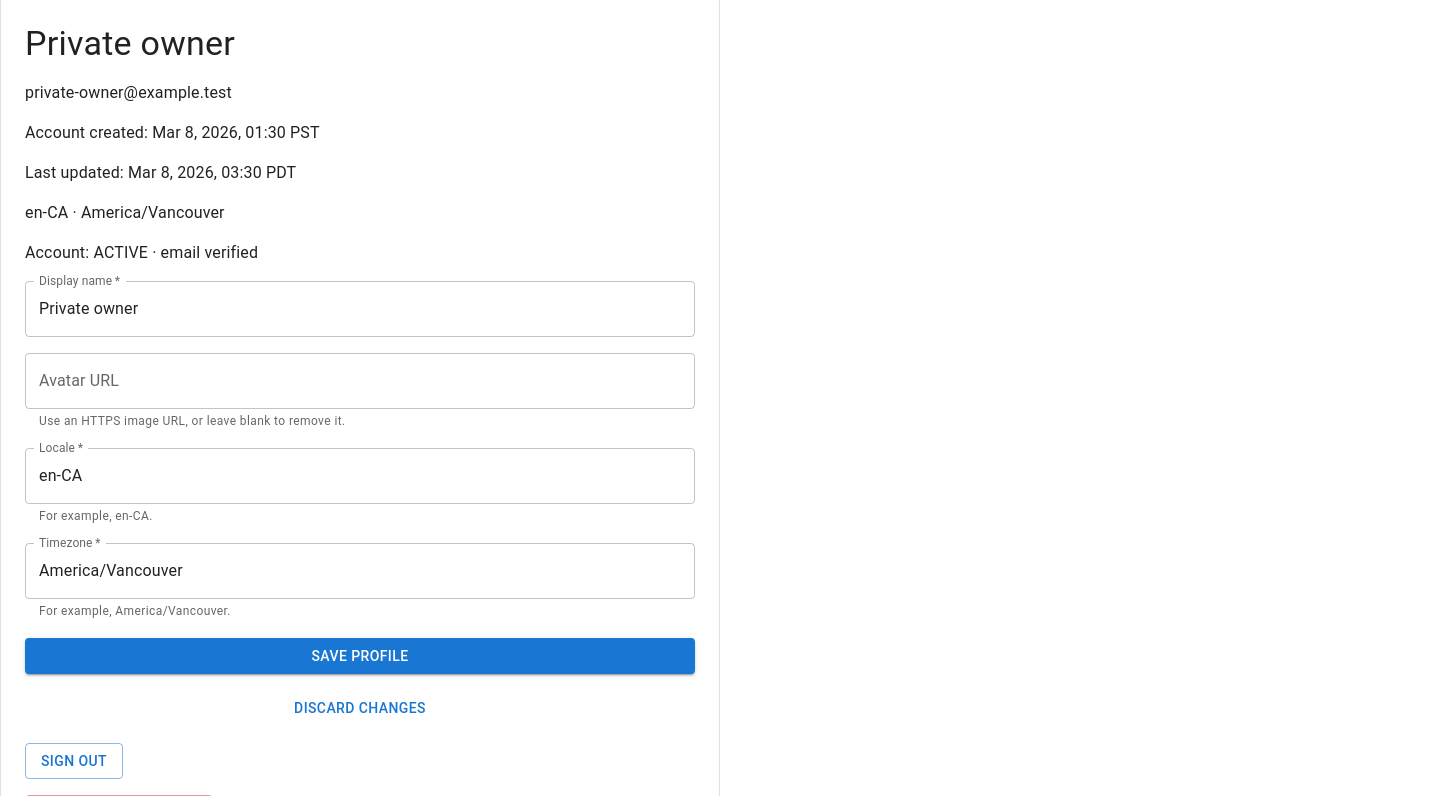
Test: PRD-02/03/18 account deactivation › preserves edits on organization_owner_required and reuses the refused intent after fresh confirmation
Replace the text in the field labelled "Display name *" with "Preserved draft". click: (360, 309)
box: [25,281,695,337]
(page scrolled)
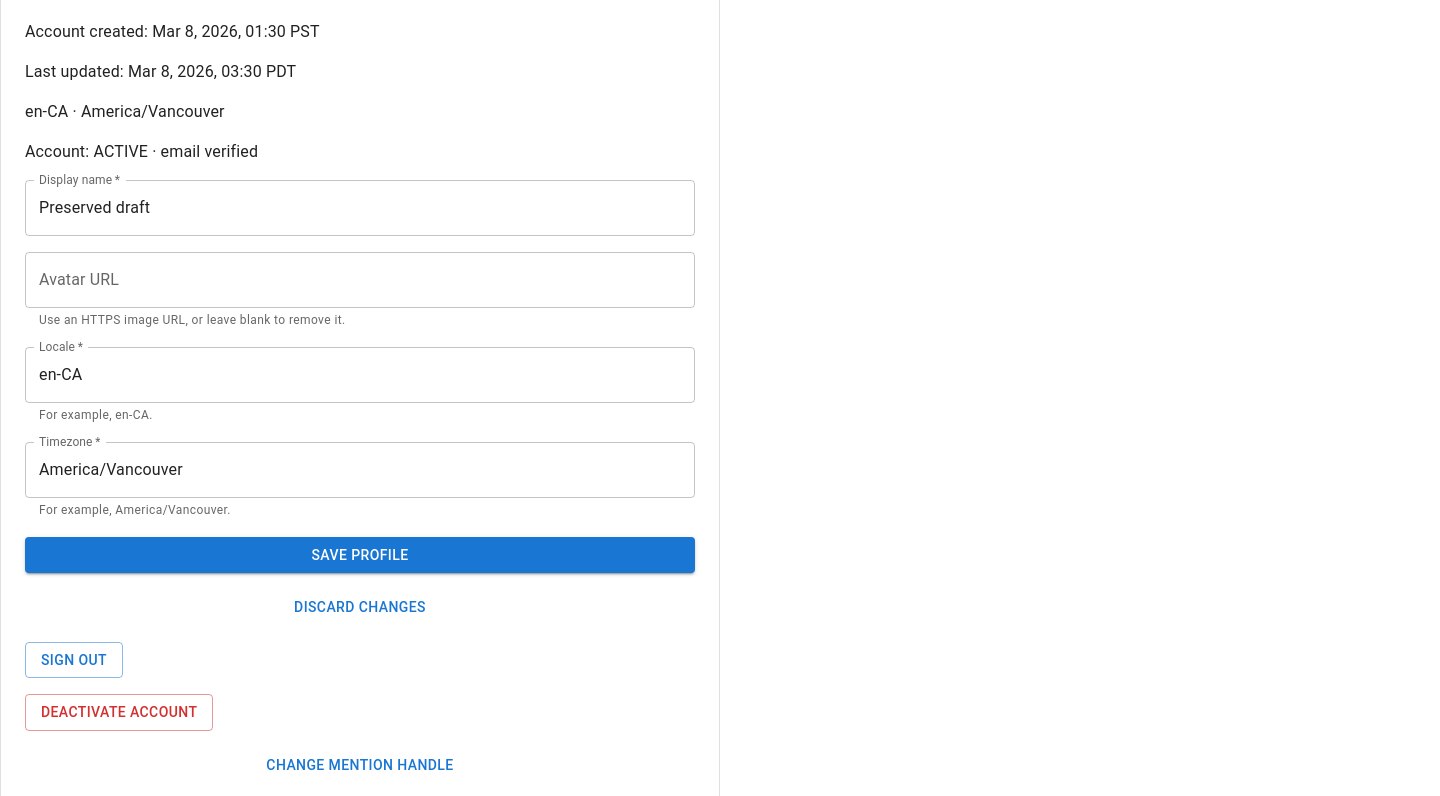
Click the button "Deactivate account". click: (119, 712)
box: [25,694,213,731]
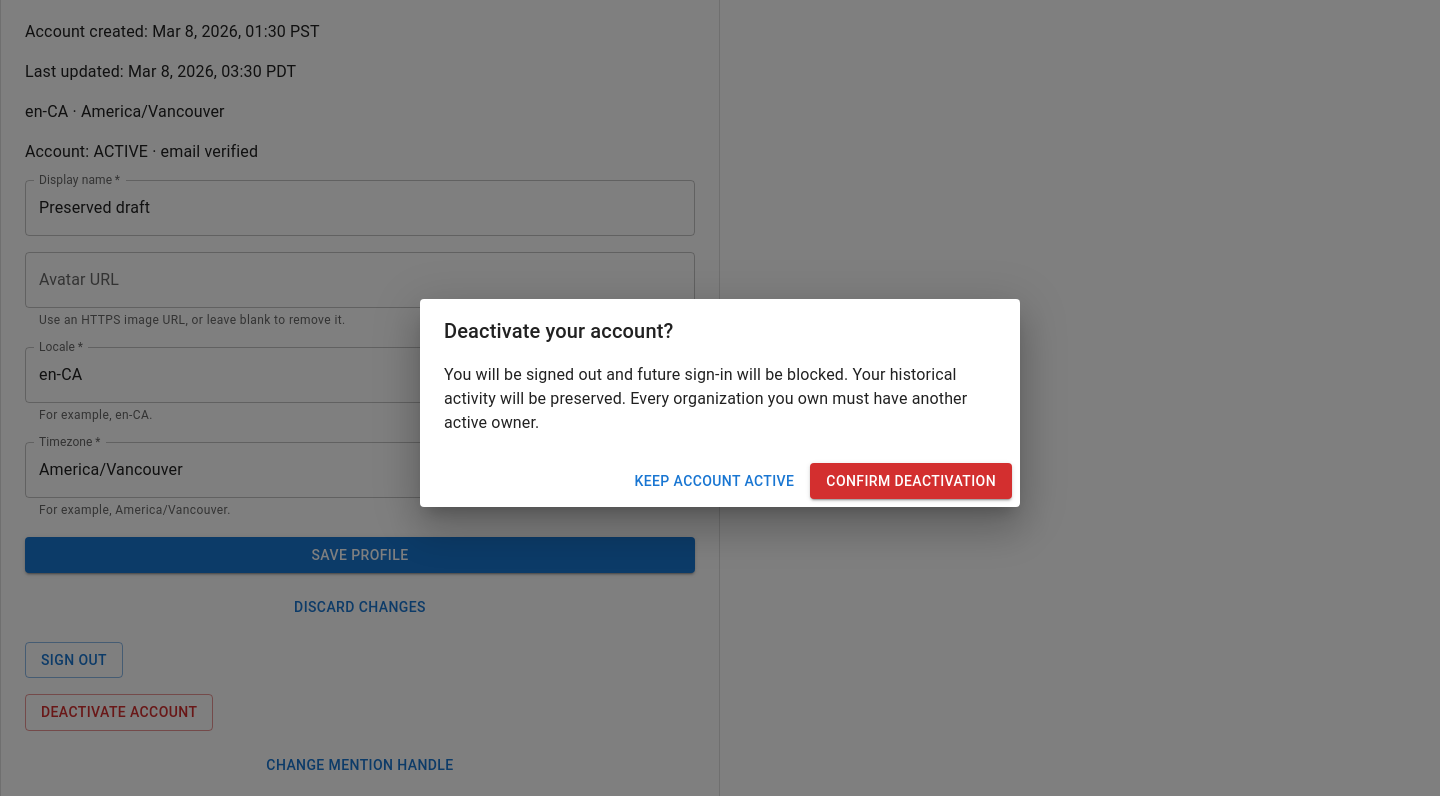
Expected: the dialog "Deactivate your account?" is shown, [420,299,1020,507]
Click the button "Confirm deactivation". click: (911, 481)
box: [810,463,1012,499]
(page scrolled)
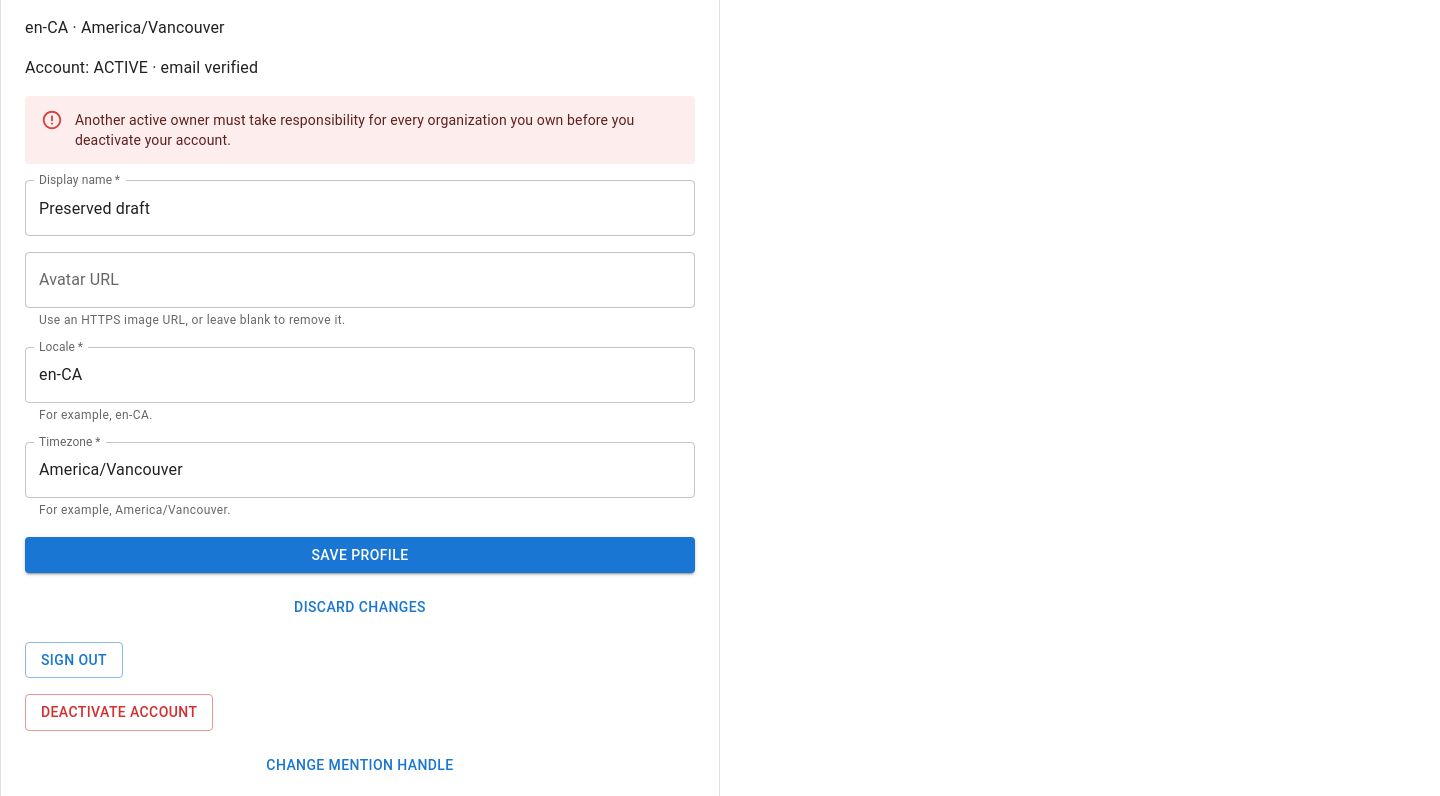
Expected: the text "Another active owner must" is shown, [75,112,634,148]
Click the button "Deactivate account". click: (119, 712)
box: [25,694,213,731]
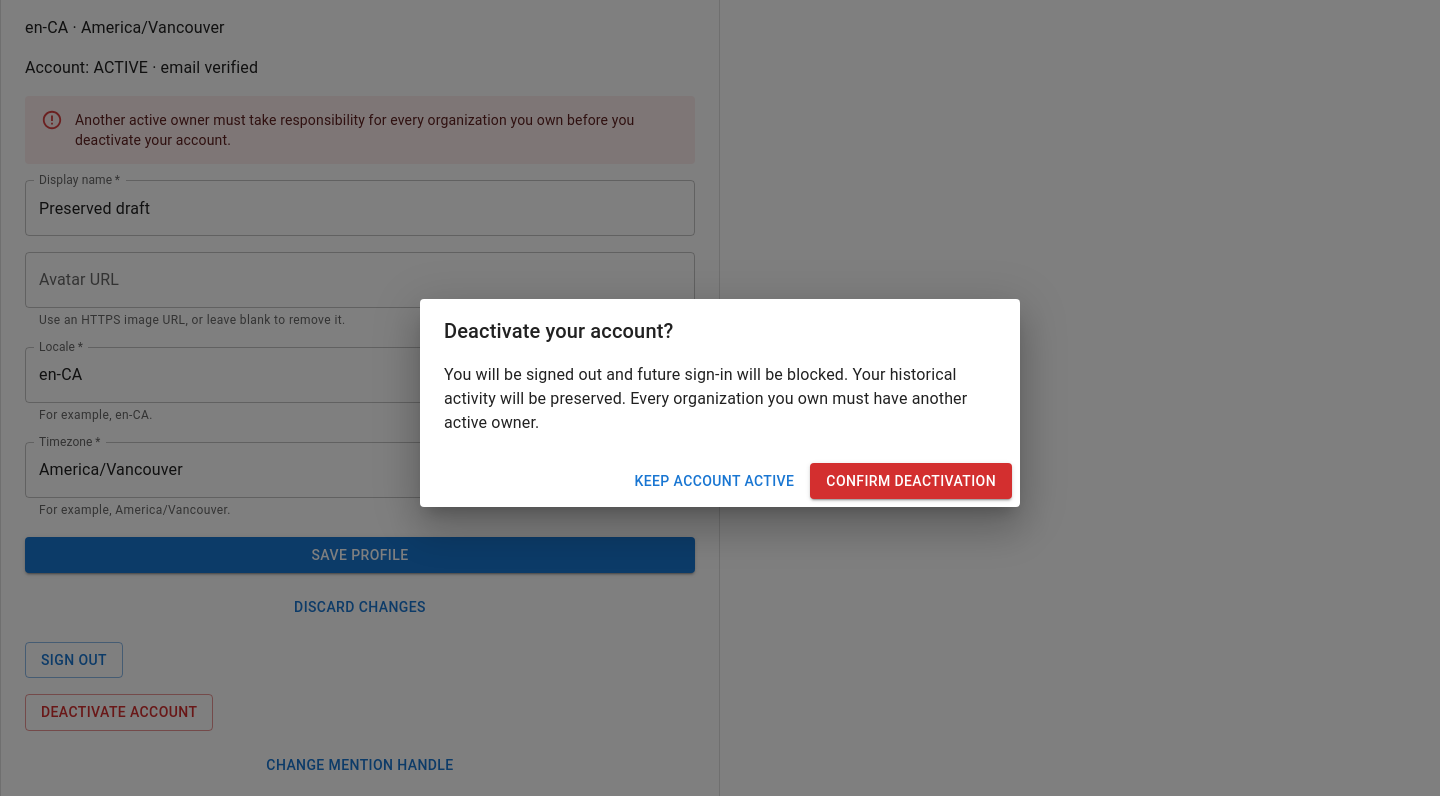
Expected: the dialog "Deactivate your account?" is shown, [420,299,1020,507]
Click the button "Confirm deactivation". click: (911, 481)
box: [810,463,1012,499]
(page scrolled)
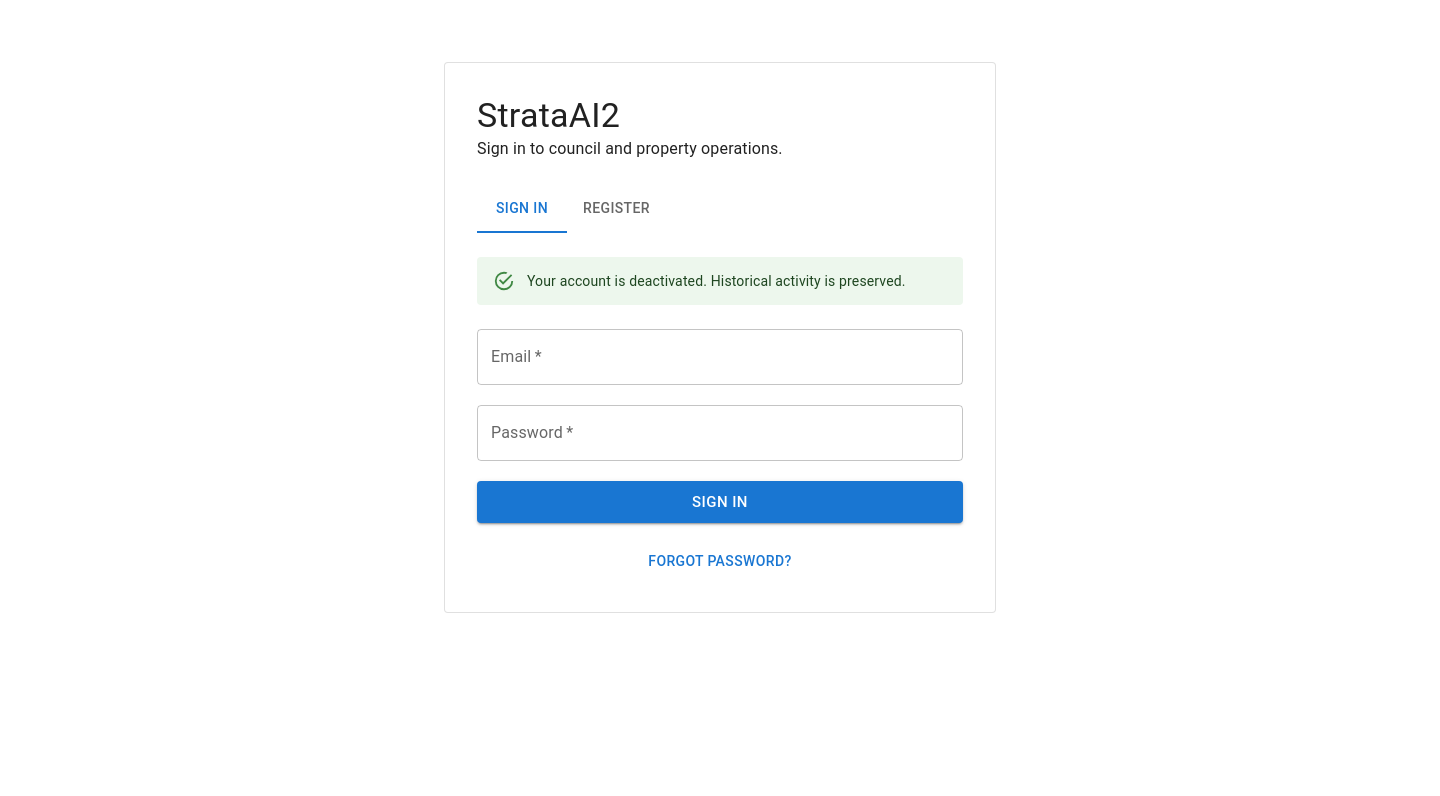
Expected: the text "Your account is deactivated. Historical activity is preserved." is shown, [527,273,906,289]
